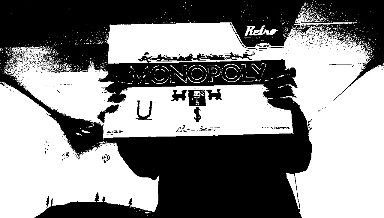U: (135, 98, 153, 118)
